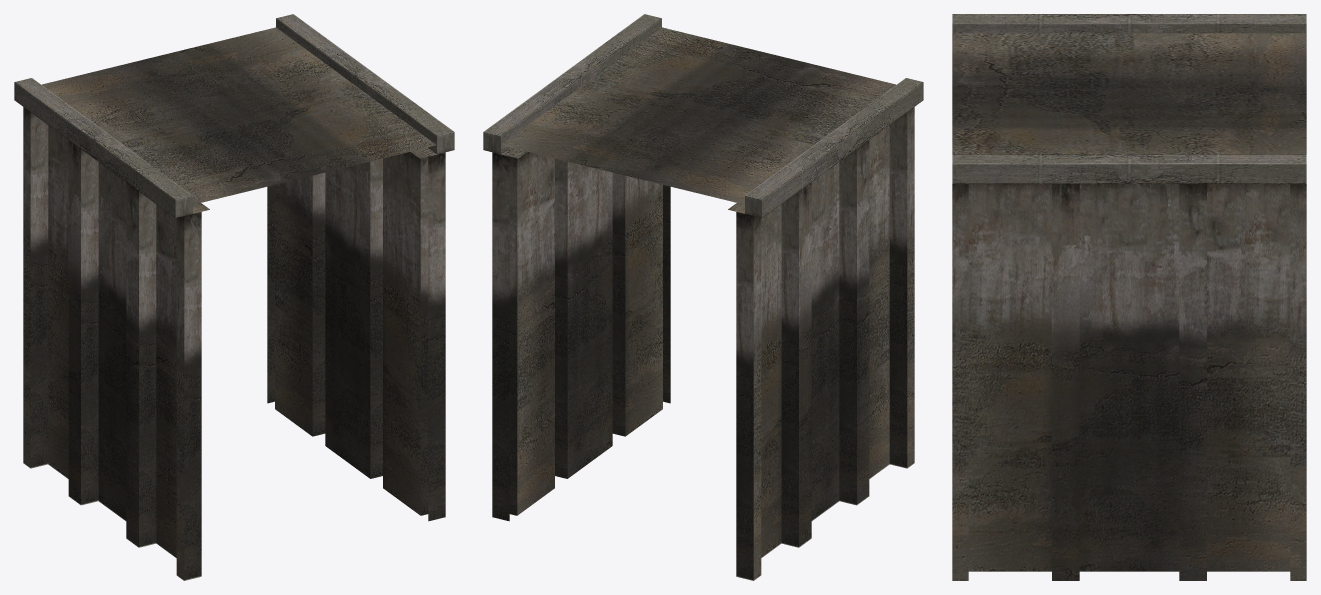
File: Dockarm1.glb
3 renders of one model, left to right at view 1: azimuth 30°, elevation 25°; view 2: azimuth 150°, elevation 25°; view 3: azimuth 270°, elevation 25°, orthographic. The views are drawn at different scales.
Parts seen in each view (by area): view 1: _Dockarm1; view 2: _Dockarm1; view 3: _Dockarm1.
Boxes of the visible parts, bbox=[...] form: _Dockarm1: bbox=[14, 14, 454, 580]; _Dockarm1: bbox=[483, 14, 923, 580]; _Dockarm1: bbox=[952, 14, 1306, 580].
Bounding box in the file's own units: 16 × 21 × 16.
1 material, 1 textured.
